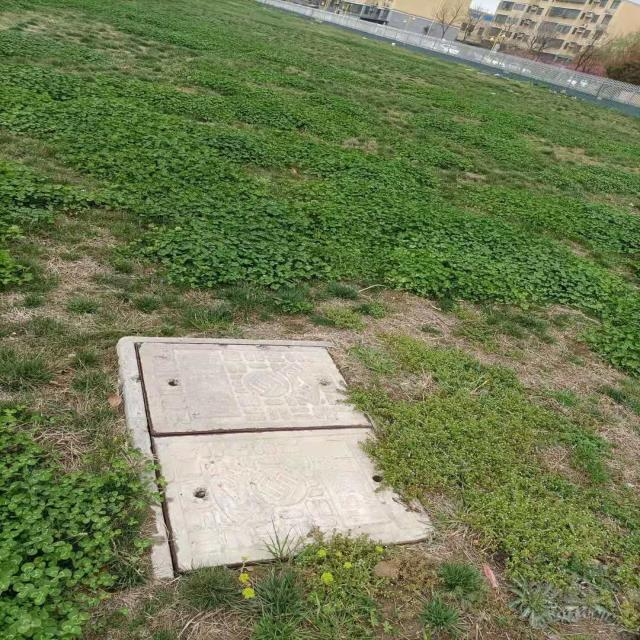Good: (114, 335, 442, 581)
